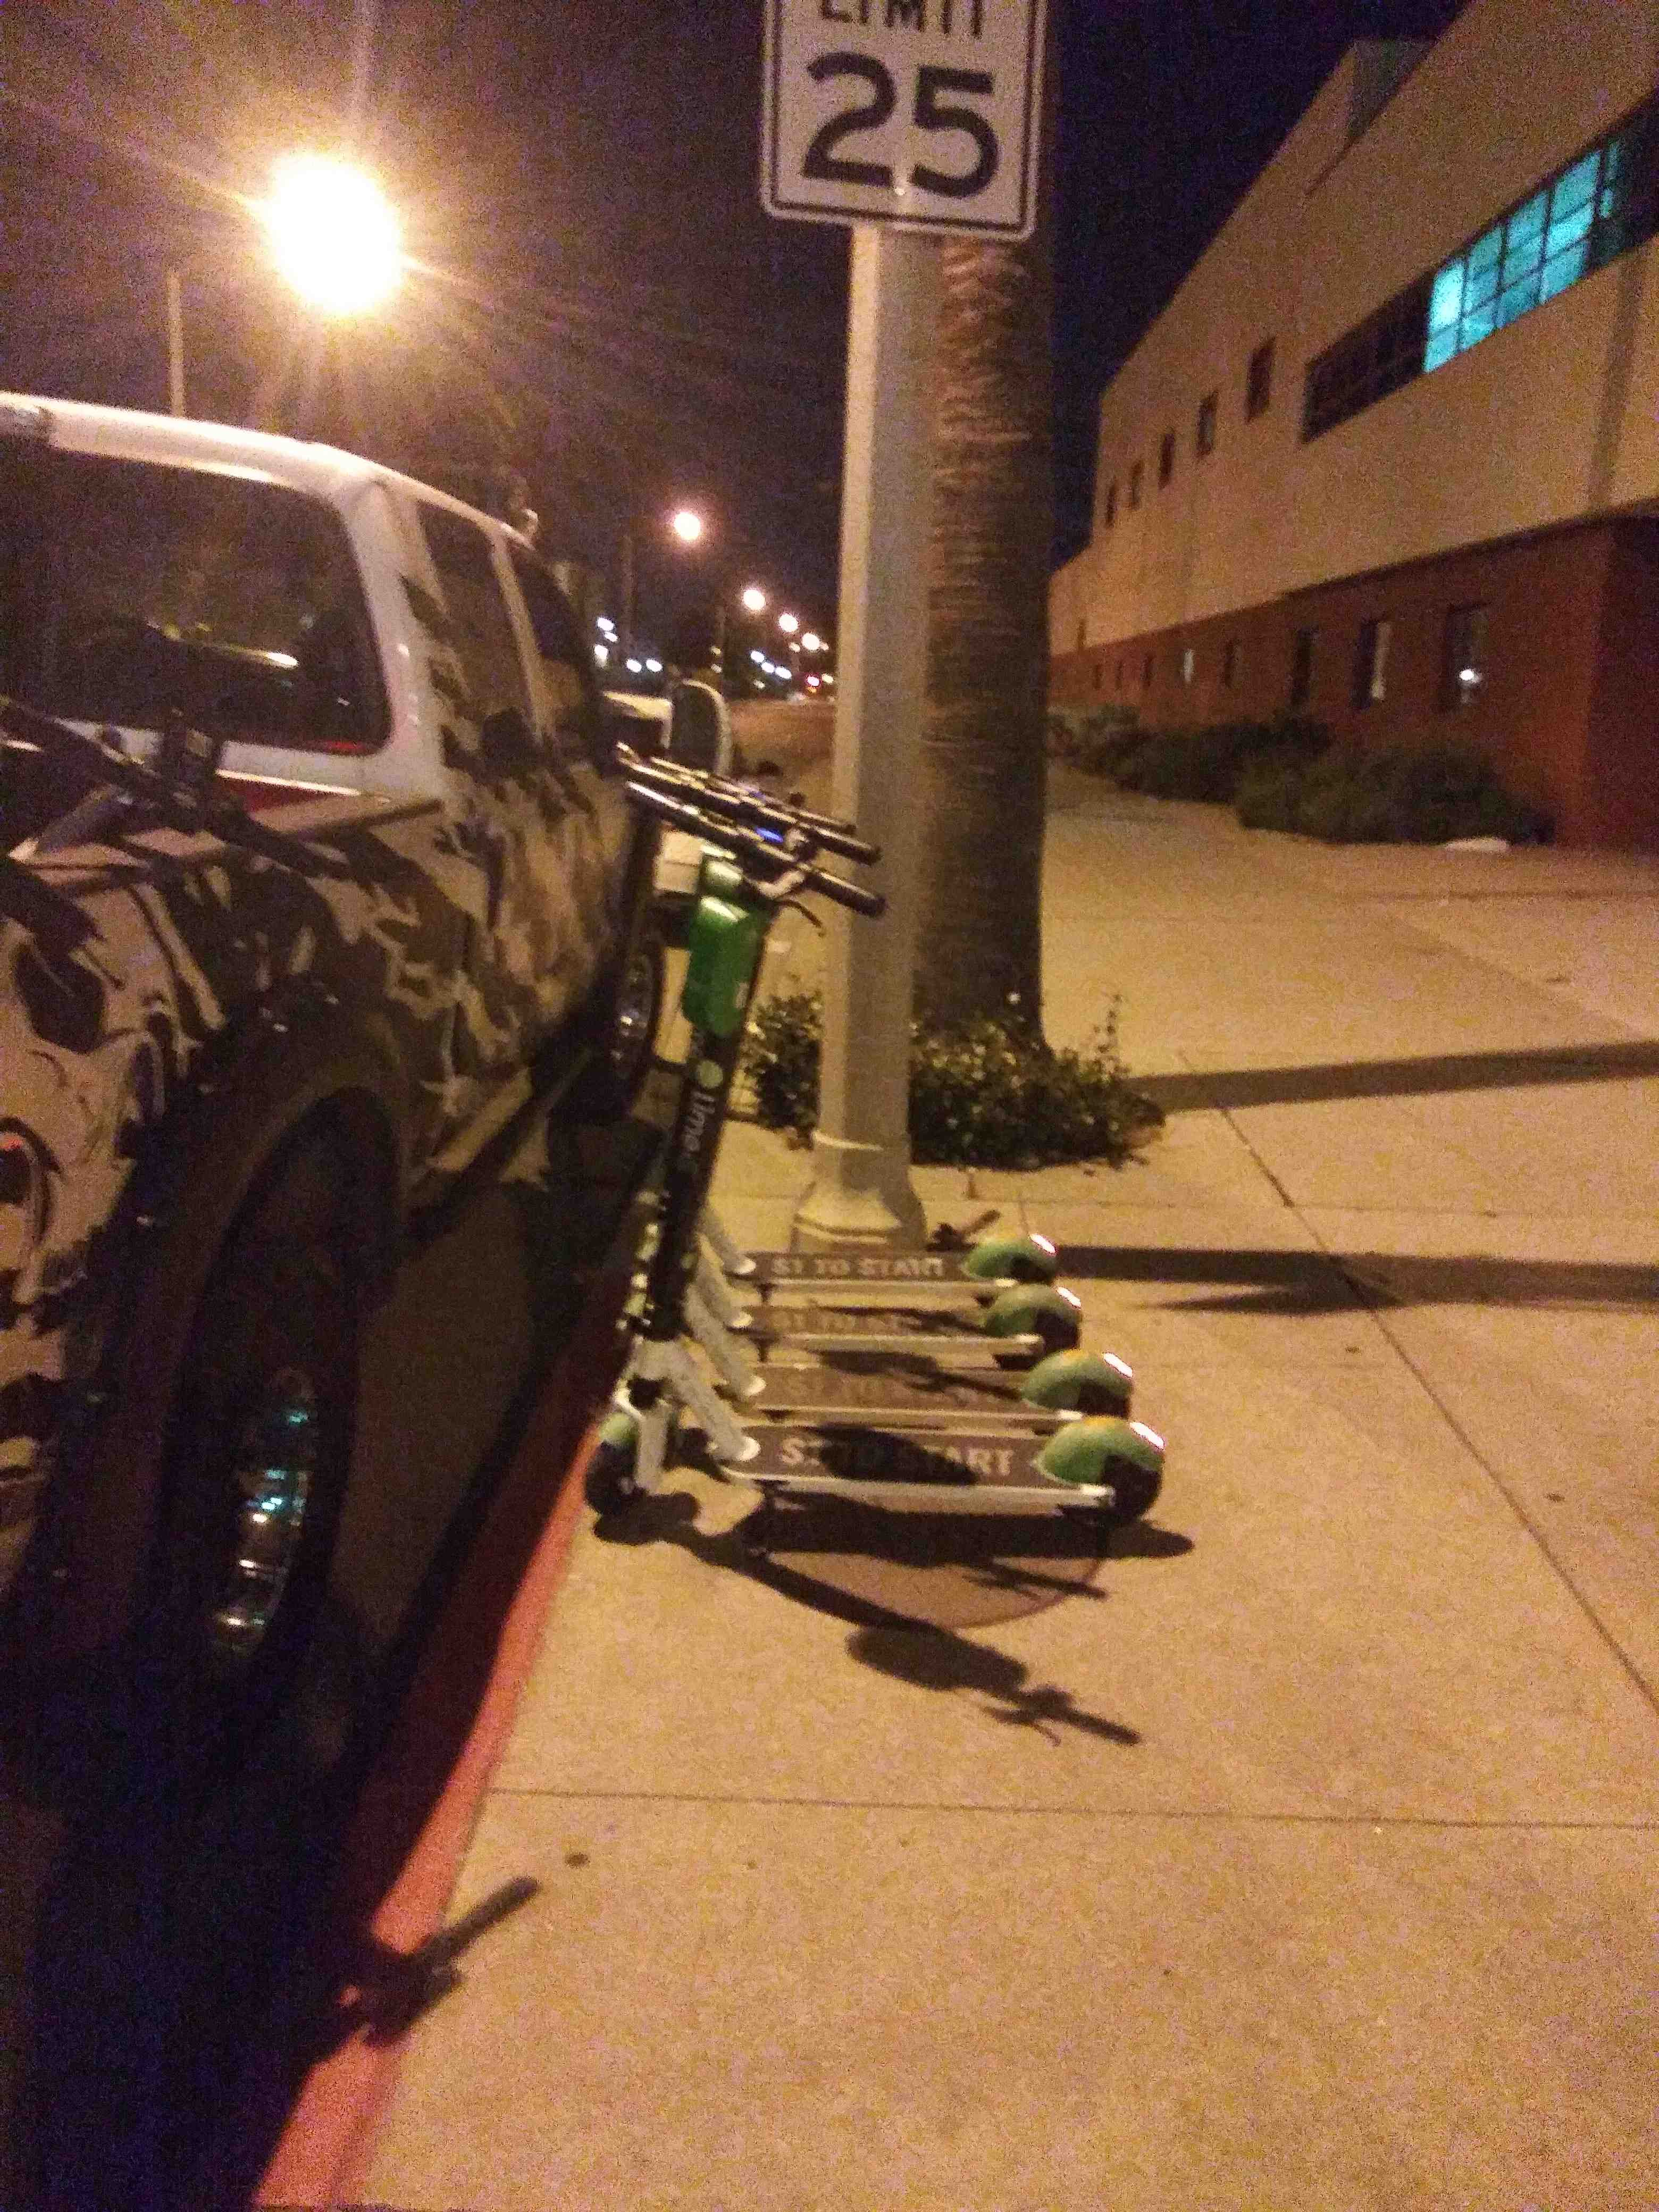too close: (479, 1376, 732, 1594)
